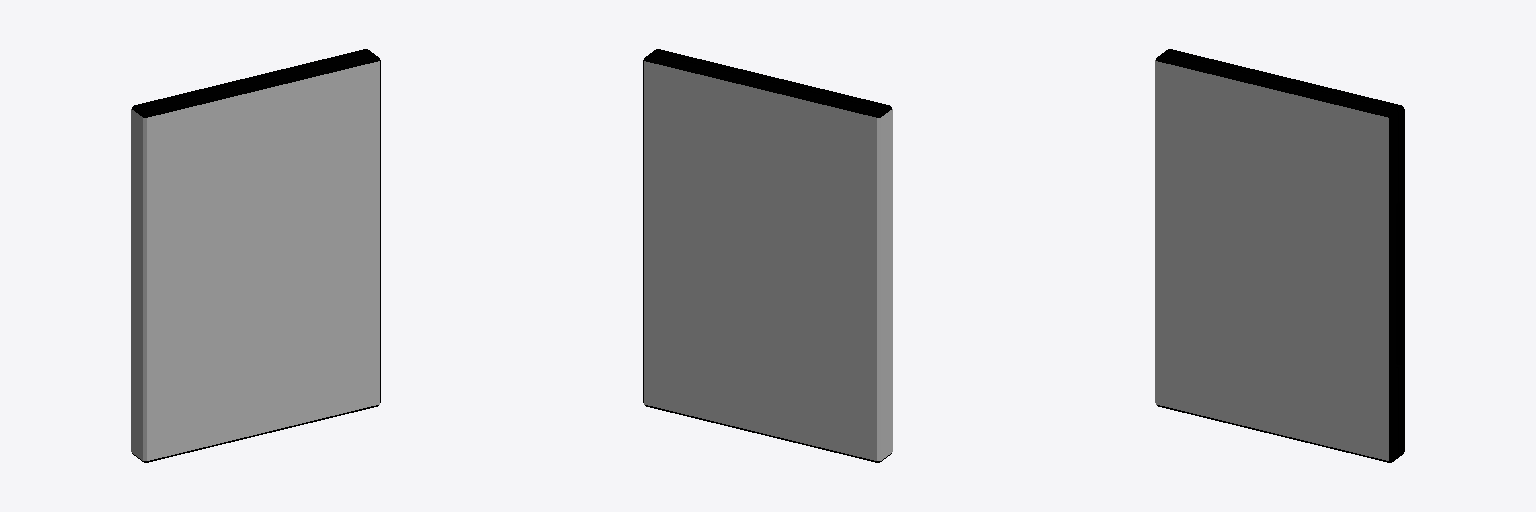
File: cover_dvd.obj
The picture shows the model from 3 angles: view 1: azimuth 30°, elevation 25°; view 2: azimuth 150°, elevation 25°; view 3: azimuth 330°, elevation 25°; orthographic projection.
Visible parts, largest first — view 1: label, box; view 2: label, box; view 3: label, box.
Boxes of the visible parts, box(x1,y1,x2,y2) form: label: box(131, 61, 379, 460); box: box(132, 49, 380, 462); label: box(644, 61, 892, 460); box: box(643, 49, 891, 462); label: box(1155, 60, 1388, 460); box: box(1156, 49, 1404, 462).
Size of the model in its own units: 0.135 by 0.19 by 0.014.